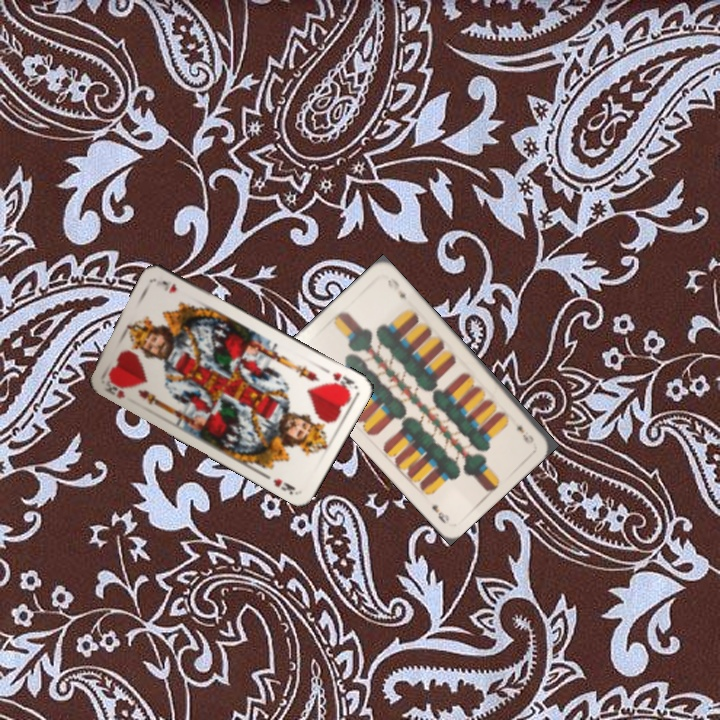E9: (512, 421, 536, 446)
HK: (320, 364, 358, 393), (100, 374, 131, 401)
